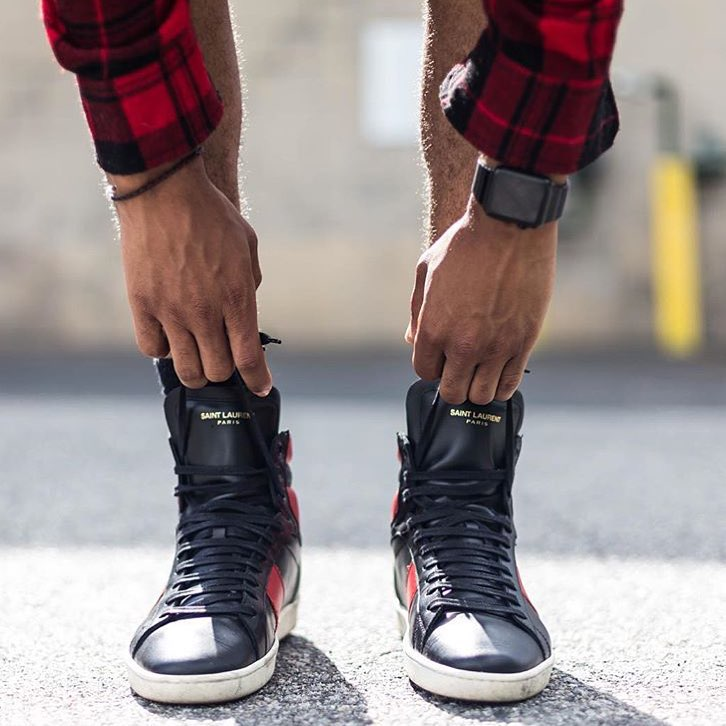sneaker: (96, 362, 331, 722), (378, 363, 569, 713)
